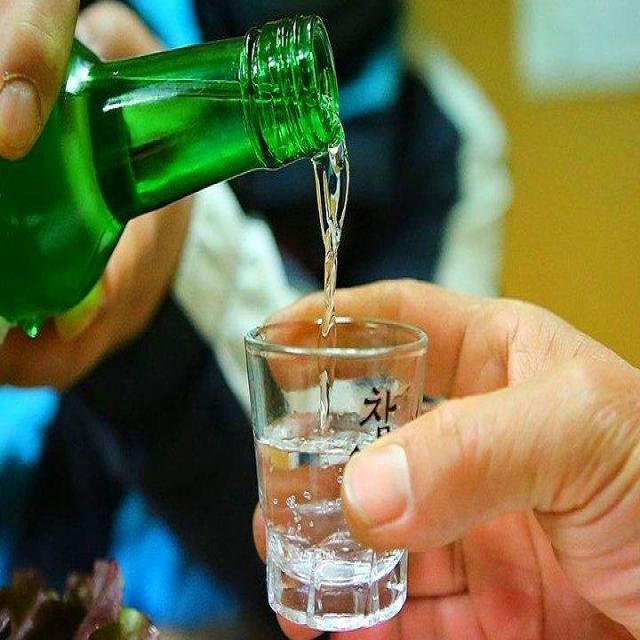soju-bottle: (1, 16, 335, 326)
